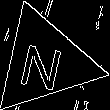N_N: (19, 33, 70, 91)
